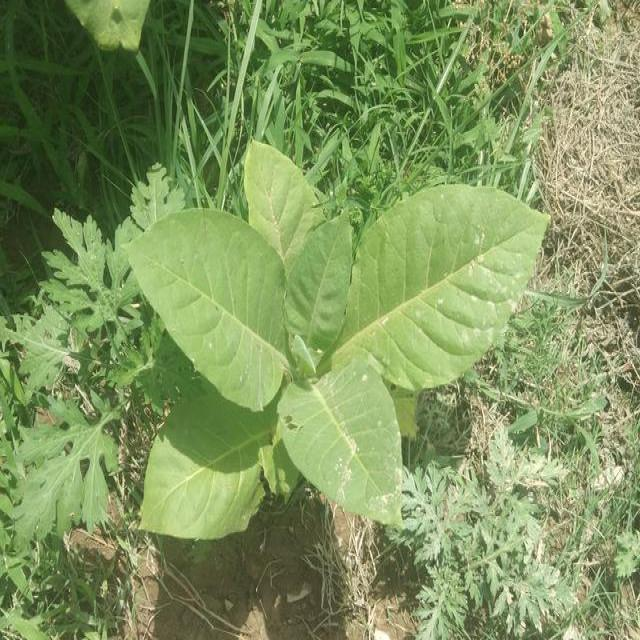crop: (128, 134, 544, 536)
